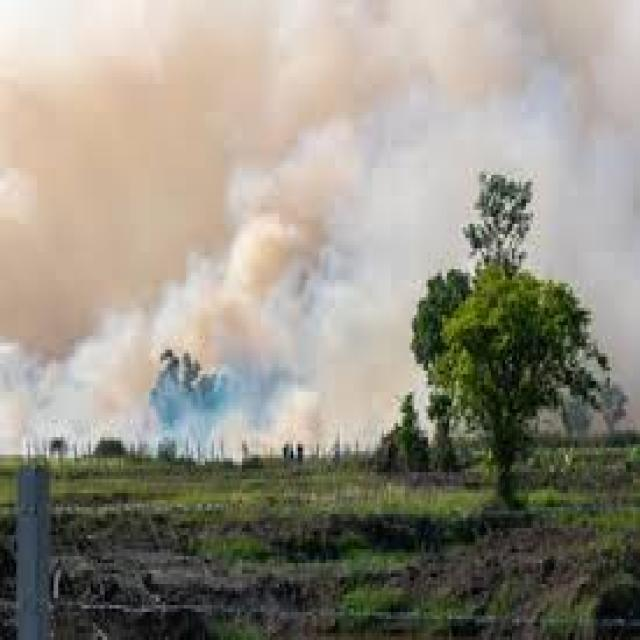Smoke: (2, 1, 432, 308), (0, 324, 396, 449), (441, 8, 639, 172)
